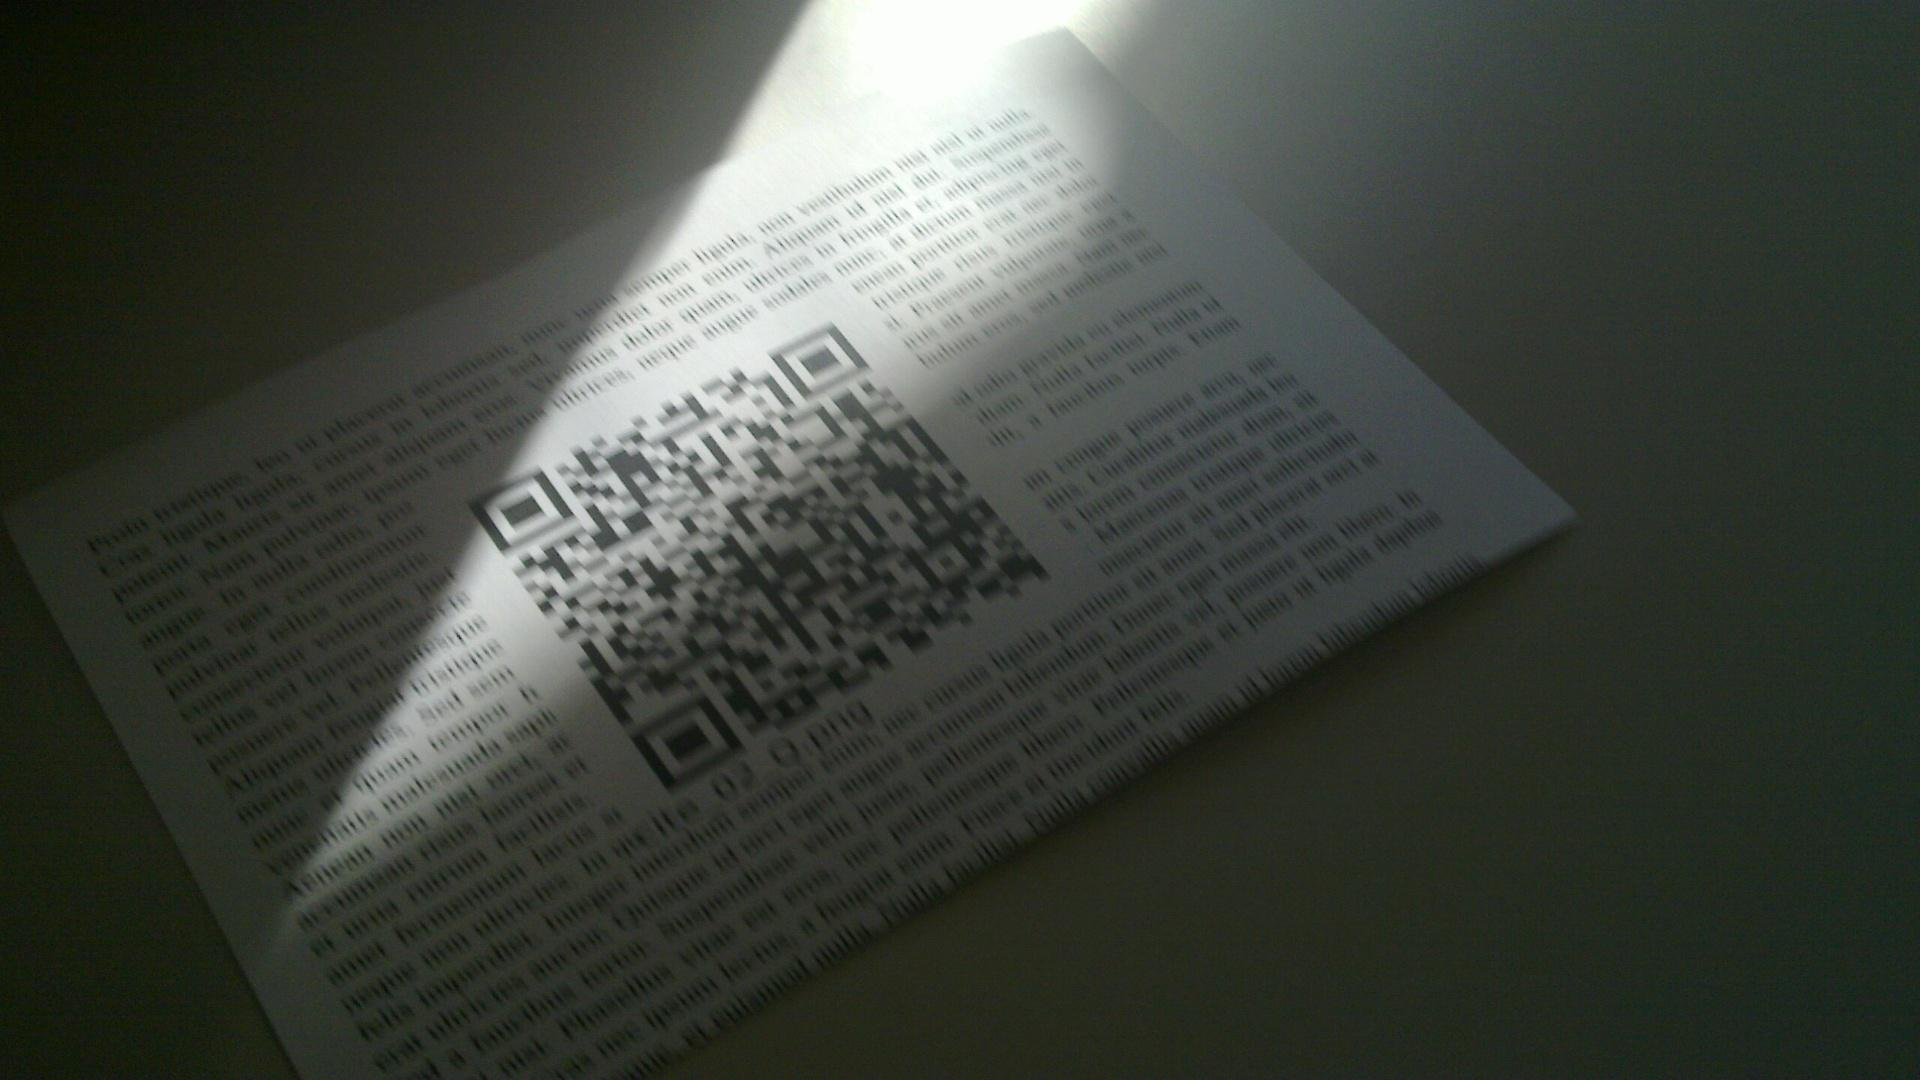Finder pattern: (632, 696, 738, 789), (469, 471, 567, 553), (761, 322, 864, 398)
